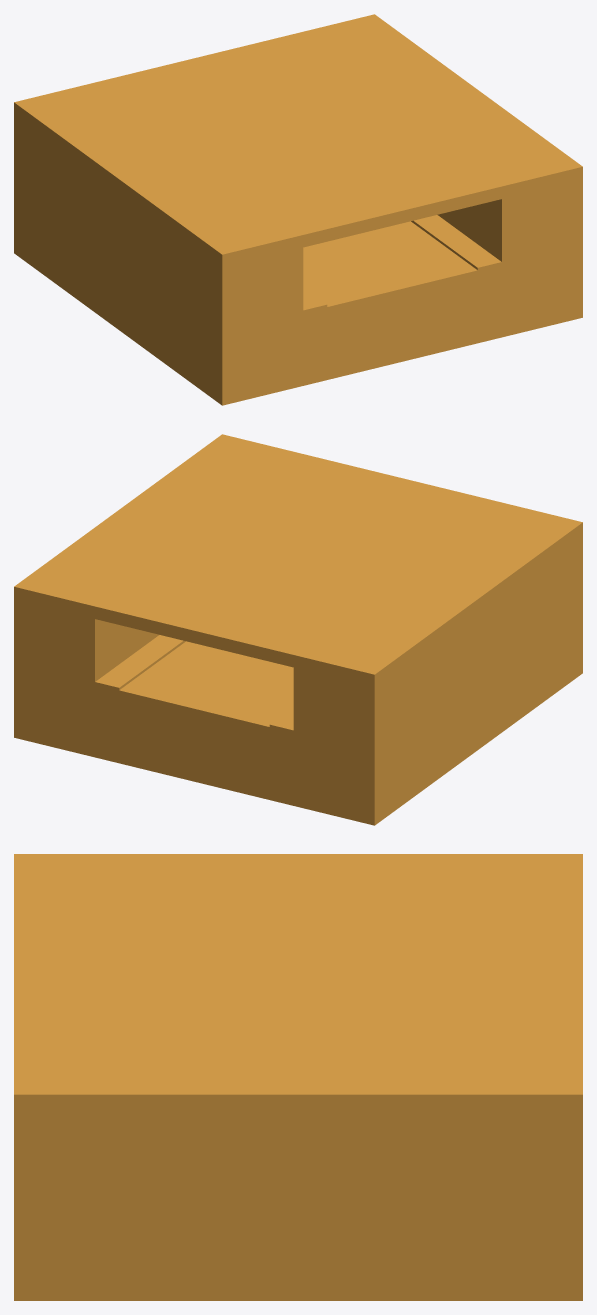
Rendered from tile-mainroad-tunnel.glb.
3 views of the same model, one above another, from view 1: azimuth 30°, elevation 25°; view 2: azimuth 150°, elevation 25°; view 3: azimuth 270°, elevation 25° (orthographic). The views are drawn at different scales.
Visible parts, largest first — view 1: tile-mainroad-tunnel; view 2: tile-mainroad-tunnel; view 3: tile-mainroad-tunnel.
Boxes of the visible parts, x1,y1,x2,y2 form: tile-mainroad-tunnel: (14,14,582,405); tile-mainroad-tunnel: (14,434,582,825); tile-mainroad-tunnel: (14,854,582,1300).
Size of the model in its own units: 30 by 12 by 30.
